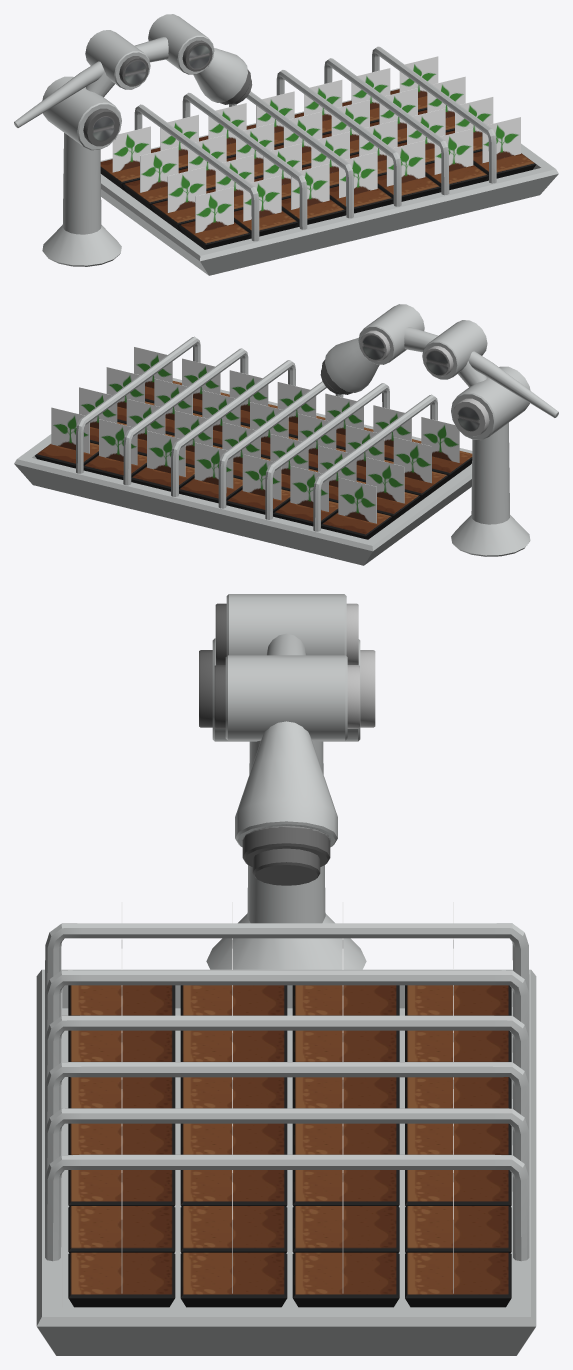
Rendered from geo_SoilTreatment.fbx.
3 views of the same model, one above another, from view 1: azimuth 30°, elevation 25°; view 2: azimuth 150°, elevation 25°; view 3: azimuth 270°, elevation 25° (orthographic). The views are drawn at different scales.
Visible parts, largest first — view 1: geo_SoilTreatment_Plants, geo_SoilTreatment_RoboticArm, geo_SoilTreatment_Base, geo_SoilTreatment_PlantsBase, geo_SoilTreatment_Base1; view 2: geo_SoilTreatment_Plants, geo_SoilTreatment_RoboticArm, geo_SoilTreatment_Base, geo_SoilTreatment_PlantsBase, geo_SoilTreatment_Base1; view 3: geo_SoilTreatment_PlantsBase, geo_SoilTreatment_Base1, geo_SoilTreatment_RoboticArm, geo_SoilTreatment_Base, geo_SoilTreatment_Plants.
Boxes of the visible parts, x1=… form: geo_SoilTreatment_Plants: x1=112, y1=56, x2=520, y2=233; geo_SoilTreatment_RoboticArm: x1=14, y1=14, x2=252, y2=266; geo_SoilTreatment_Base: x1=100, y1=88, x2=558, y2=275; geo_SoilTreatment_PlantsBase: x1=100, y1=89, x2=536, y2=249; geo_SoilTreatment_Base1: x1=134, y1=46, x2=496, y2=241; geo_SoilTreatment_Plants: x1=51, y1=346, x2=459, y2=523; geo_SoilTreatment_RoboticArm: x1=320, y1=304, x2=558, y2=556; geo_SoilTreatment_Base: x1=14, y1=378, x2=472, y2=565; geo_SoilTreatment_PlantsBase: x1=35, y1=381, x2=472, y2=539; geo_SoilTreatment_Base1: x1=76, y1=336, x2=437, y2=531; geo_SoilTreatment_PlantsBase: x1=68, y1=985, x2=511, y2=1307; geo_SoilTreatment_Base1: x1=45, y1=923, x2=529, y2=1261; geo_SoilTreatment_RoboticArm: x1=199, y1=594, x2=375, y2=969; geo_SoilTreatment_Base: x1=36, y1=969, x2=536, y2=1355; geo_SoilTreatment_Plants: x1=121, y1=902, x2=453, y2=1293.
Size of the model in its own units: 463 by 185 by 208.
2 materials, 2 textured.
